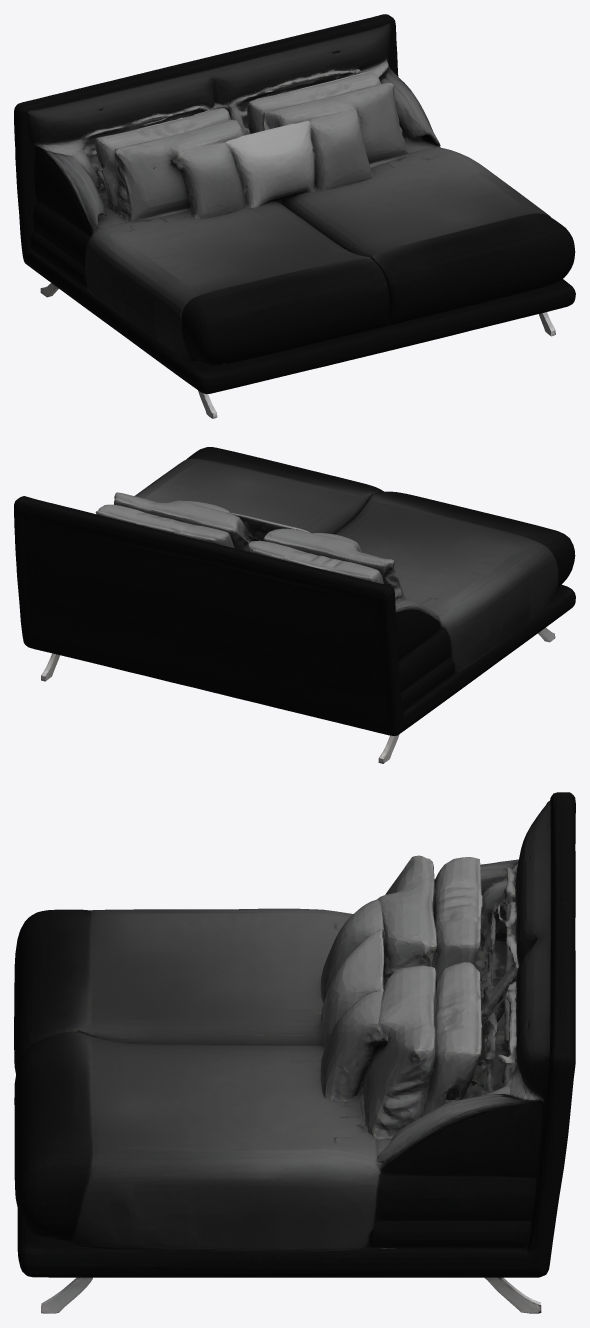
File: 488a9704-f02f-428c-b190-fcc7e7db4548.glb
3 views of the same model, one above another, from view 1: azimuth 30°, elevation 25°; view 2: azimuth 150°, elevation 25°; view 3: azimuth 270°, elevation 25° (orthographic). The views are drawn at different scales.
Visible parts, largest first — view 1: world; view 2: world; view 3: world.
Part boxes in pixels (x1,y1,x2,y2): world: [14, 14, 575, 418]; world: [14, 447, 575, 763]; world: [14, 792, 575, 1313].
Bounding box in the file's own units: 0.9984 × 0.4675 × 0.8818.
1 material, 1 textured.
